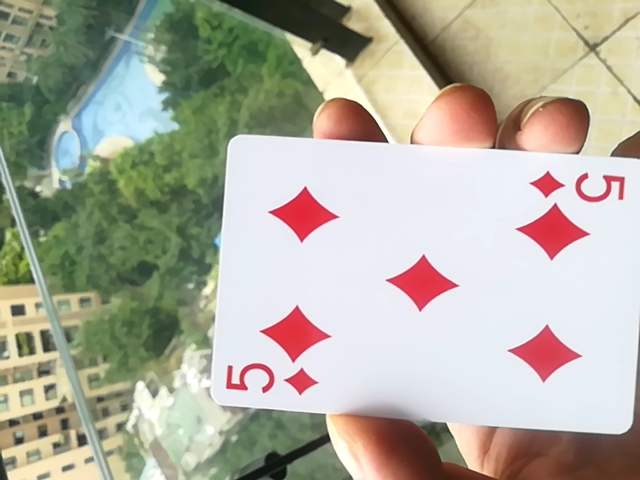fk 5: (200, 131, 638, 439)
